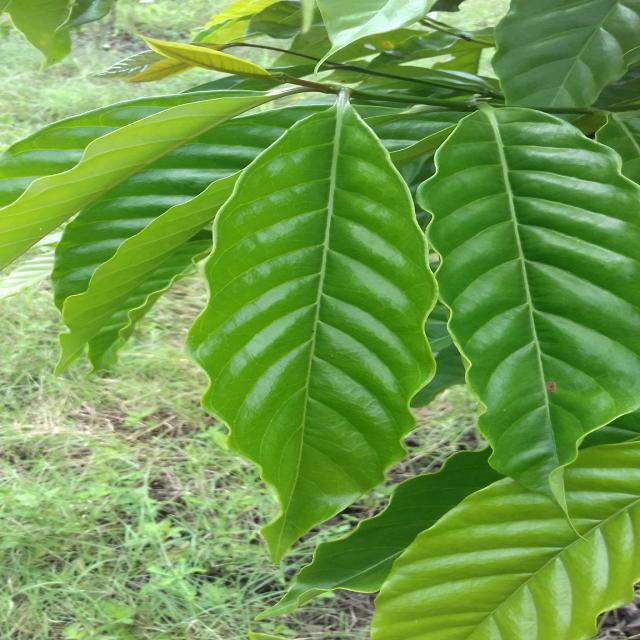Sanas: (184, 102, 437, 561)
